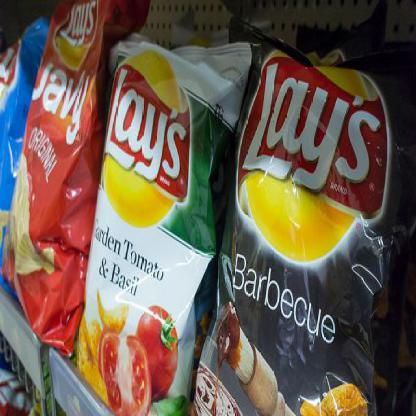potatochip: (188, 3, 416, 414), (72, 17, 267, 415), (0, 0, 155, 362), (0, 8, 59, 301)
